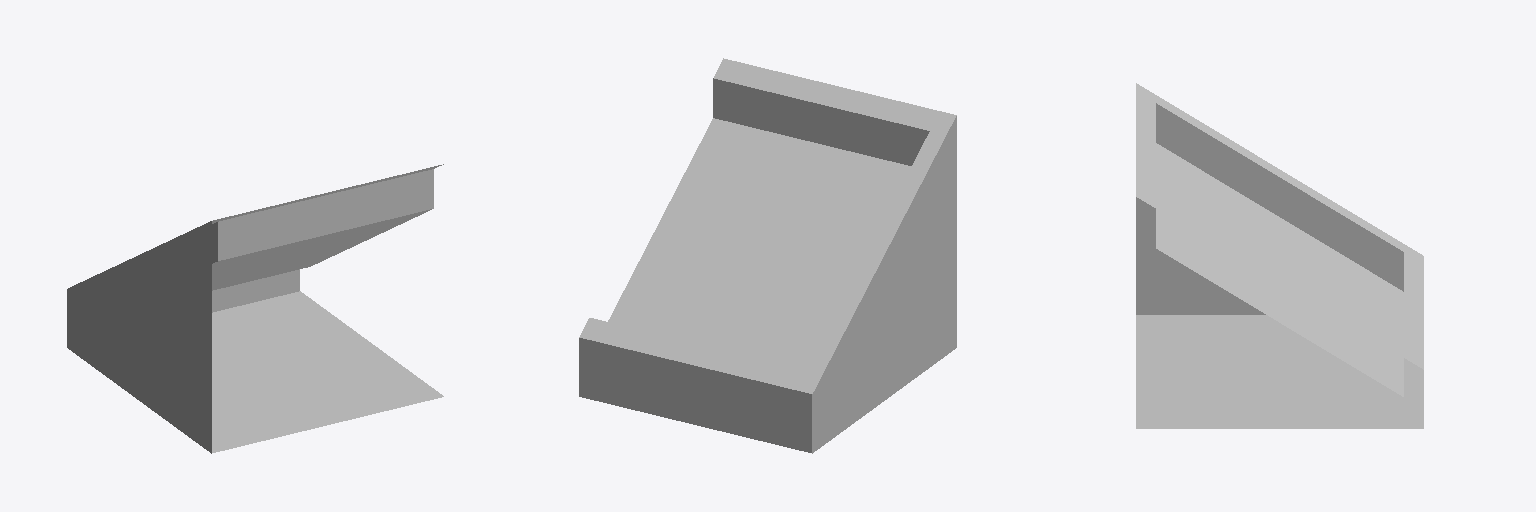
File: stands_right.obj
The picture shows the model from 3 angles: view 1: azimuth 30°, elevation 25°; view 2: azimuth 150°, elevation 25°; view 3: azimuth 270°, elevation 25°; orthographic projection.
Visible parts, largest first — view 1: Plane; view 2: Plane; view 3: Plane.
Part boxes in pixels (bbox=[...]): Plane: bbox=[67, 164, 443, 453]; Plane: bbox=[579, 58, 956, 453]; Plane: bbox=[1136, 83, 1423, 428].
Bounding box in the file's own units: 70 × 66.75 × 75.